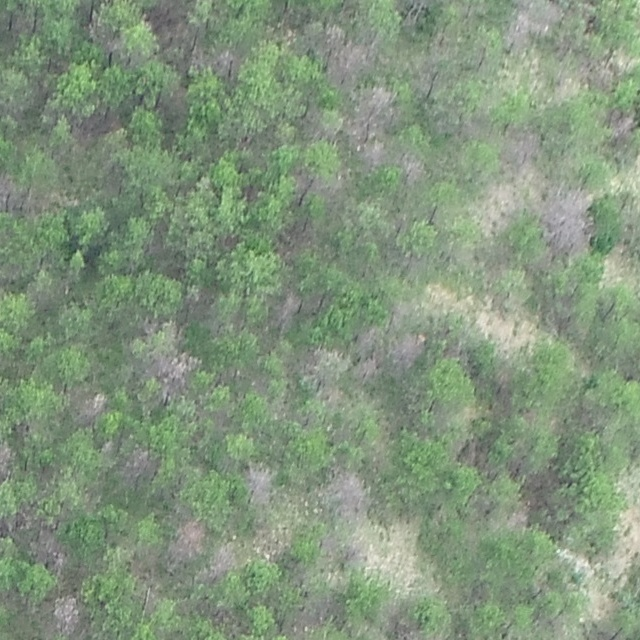unhealthy: (539, 185, 596, 254), (321, 25, 377, 85), (345, 84, 398, 142), (509, 0, 564, 46), (323, 470, 372, 520), (149, 347, 198, 392), (293, 166, 346, 202), (288, 594, 336, 633), (502, 124, 545, 167), (69, 108, 121, 143), (290, 343, 337, 381), (146, 1, 190, 41), (168, 517, 208, 561), (31, 528, 70, 572), (275, 217, 316, 258), (118, 443, 158, 484), (128, 545, 163, 591), (85, 14, 123, 55), (70, 386, 109, 425), (389, 330, 426, 370), (253, 521, 291, 559), (51, 591, 84, 633), (244, 462, 275, 505), (270, 289, 302, 330), (411, 55, 441, 96), (300, 106, 334, 141), (208, 539, 240, 576), (589, 50, 619, 89), (353, 322, 382, 361), (396, 149, 427, 185), (606, 107, 638, 140), (452, 434, 486, 465), (6, 6, 39, 37), (212, 44, 242, 78), (356, 141, 388, 171), (0, 169, 22, 211), (345, 533, 371, 565), (398, 0, 433, 22), (354, 356, 382, 383), (317, 530, 343, 558), (0, 436, 15, 483), (318, 384, 346, 408), (393, 620, 423, 640), (0, 260, 22, 287), (508, 505, 530, 530)
